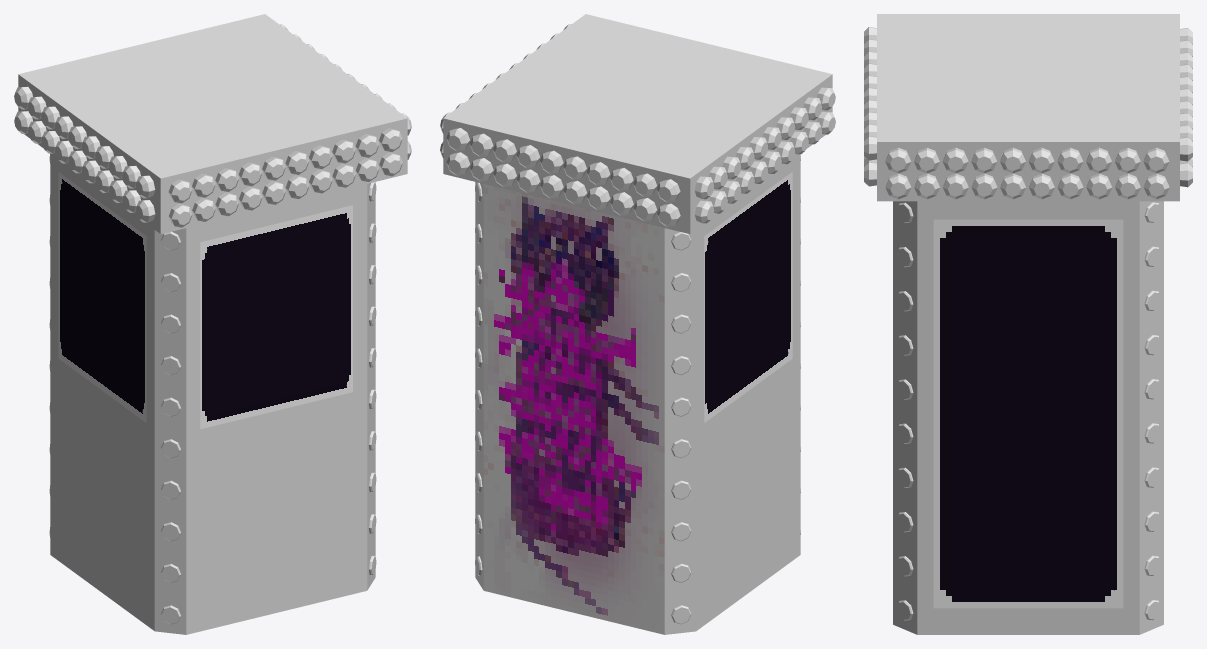
File: rideBox.fbx
The picture shows the model from 3 angles, left to right: view 1: azimuth 30°, elevation 25°; view 2: azimuth 150°, elevation 25°; view 3: azimuth 270°, elevation 25°; orthographic projection. The views are drawn at different scales.
Visible parts, largest first — view 1: Box, Roof, Light1, Light2, SideLights; view 2: Box, Roof, Light1, Light2, SideLights; view 3: Box, Roof, Light1, Light2, SideLights.
Part boxes in pixels (<box>): Box: <box>50,153,375,634</box>; Roof: <box>18,14,407,233</box>; Light1: <box>14,34,411,222</box>; Light2: <box>14,24,411,227</box>; SideLights: <box>49,154,376,624</box>; Box: <box>475,154,800,634</box>; Roof: <box>443,14,832,233</box>; Light1: <box>440,24,835,227</box>; Light2: <box>440,33,835,223</box>; SideLights: <box>475,156,800,624</box>; Box: <box>893,201,1163,634</box>; Roof: <box>877,14,1179,201</box>; Light1: <box>864,27,1192,199</box>; Light2: <box>864,28,1192,199</box>; SideLights: <box>897,202,1160,620</box>.
Bounding box in the file's own units: 92.9 × 156 × 92.9.
